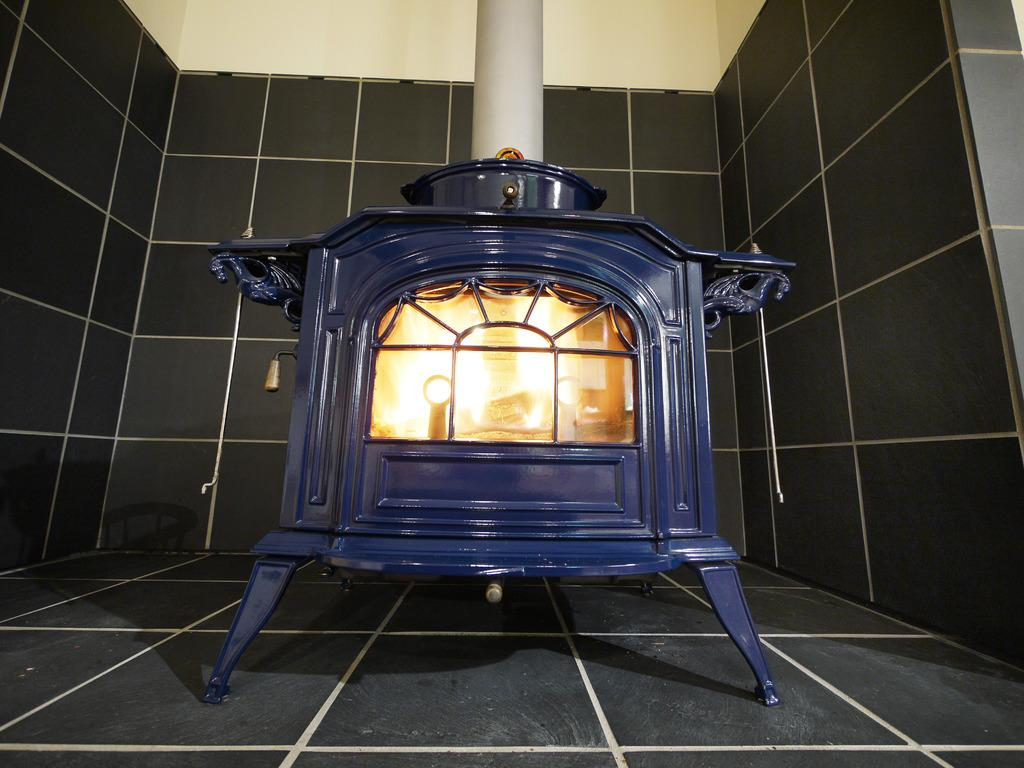Fire: (372, 295, 636, 441)
